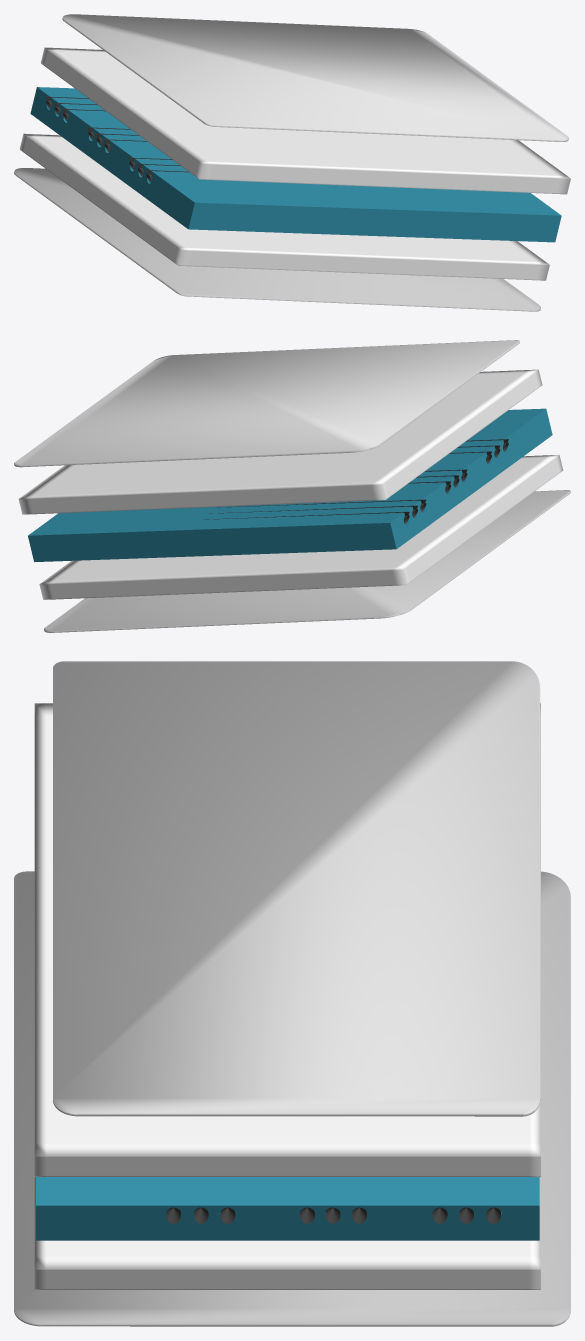
File: Amenity.glb
3 views of the same model, one above another, from view 1: azimuth 30°, elevation 25°; view 2: azimuth 150°, elevation 25°; view 3: azimuth 270°, elevation 25° (orthographic). The views are drawn at different scales.
Parts seen in each view (by area): view 1: Cube.130, Cube.131, Cube.140, Cube.132, Cube.133; view 2: Cube.130, Cube.140, Cube.131, Cube.132, Cube.133; view 3: Cube.130, Cube.133, Cube.131, Cube.140, Cube.132.
Boxes of the visible parts, x1,y1,x2,y2 form: Cube.130: (62, 14, 568, 141); Cube.131: (41, 47, 570, 194); Cube.140: (30, 87, 561, 242); Cube.132: (19, 133, 549, 280); Cube.133: (14, 168, 540, 311); Cube.130: (14, 340, 519, 467); Cube.140: (28, 408, 552, 562); Cube.131: (18, 369, 542, 514); Cube.132: (39, 454, 563, 599); Cube.133: (44, 490, 570, 632); Cube.130: (53, 661, 540, 1116); Cube.133: (14, 871, 570, 1326); Cube.131: (34, 703, 540, 1176); Cube.140: (36, 1177, 539, 1240); Cube.132: (34, 1177, 540, 1289).
Size of the model in its own units: 14.79 by 8.98 by 11.01.
